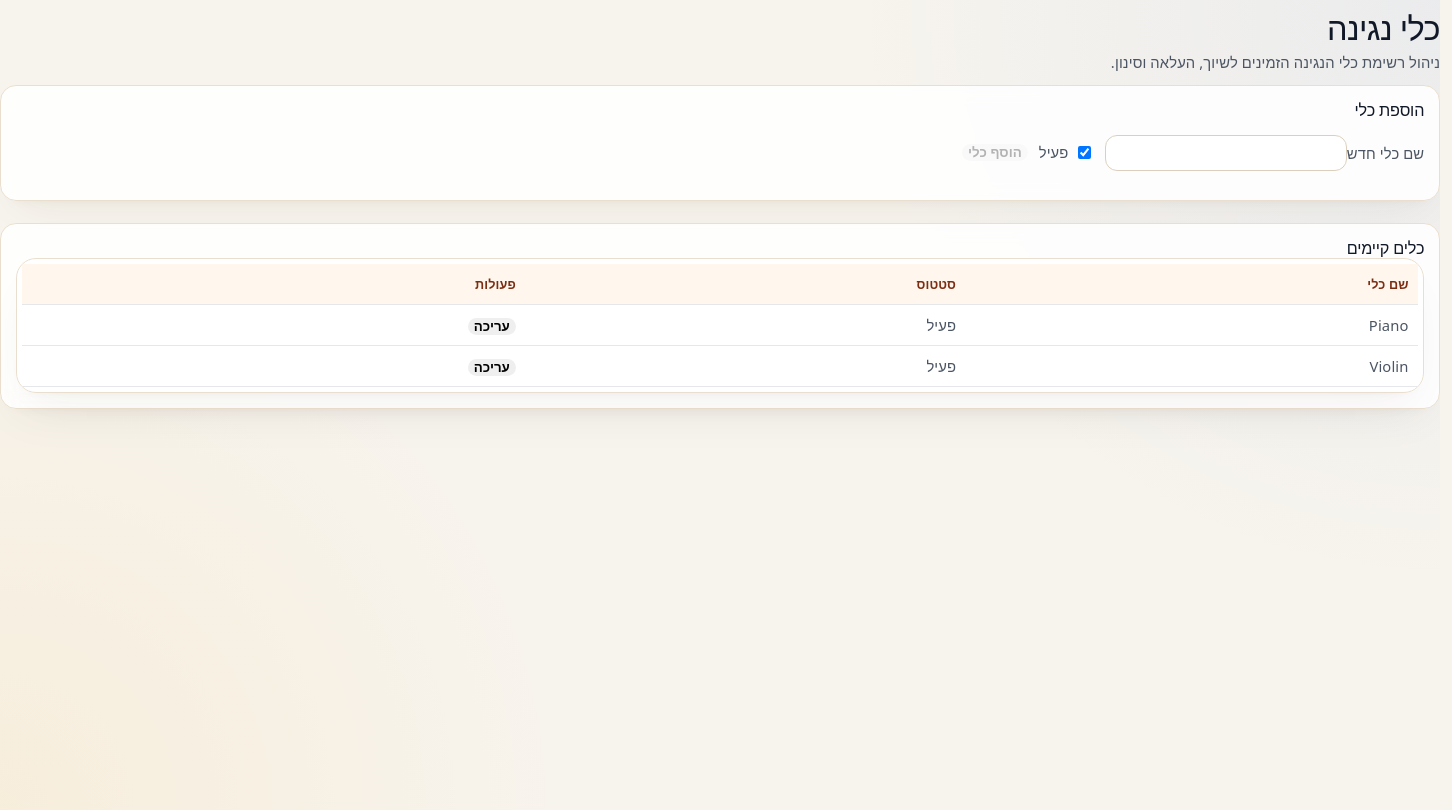
it: AdminInstrumentsPage › updates an instrument
This screenshot has width=1452, height=810.
Expected: the text "Piano" is shown, [966,305,1418,346]
Click the button "עריכה" in the row of "Piano" at (492, 326), box [468,318,516,335]
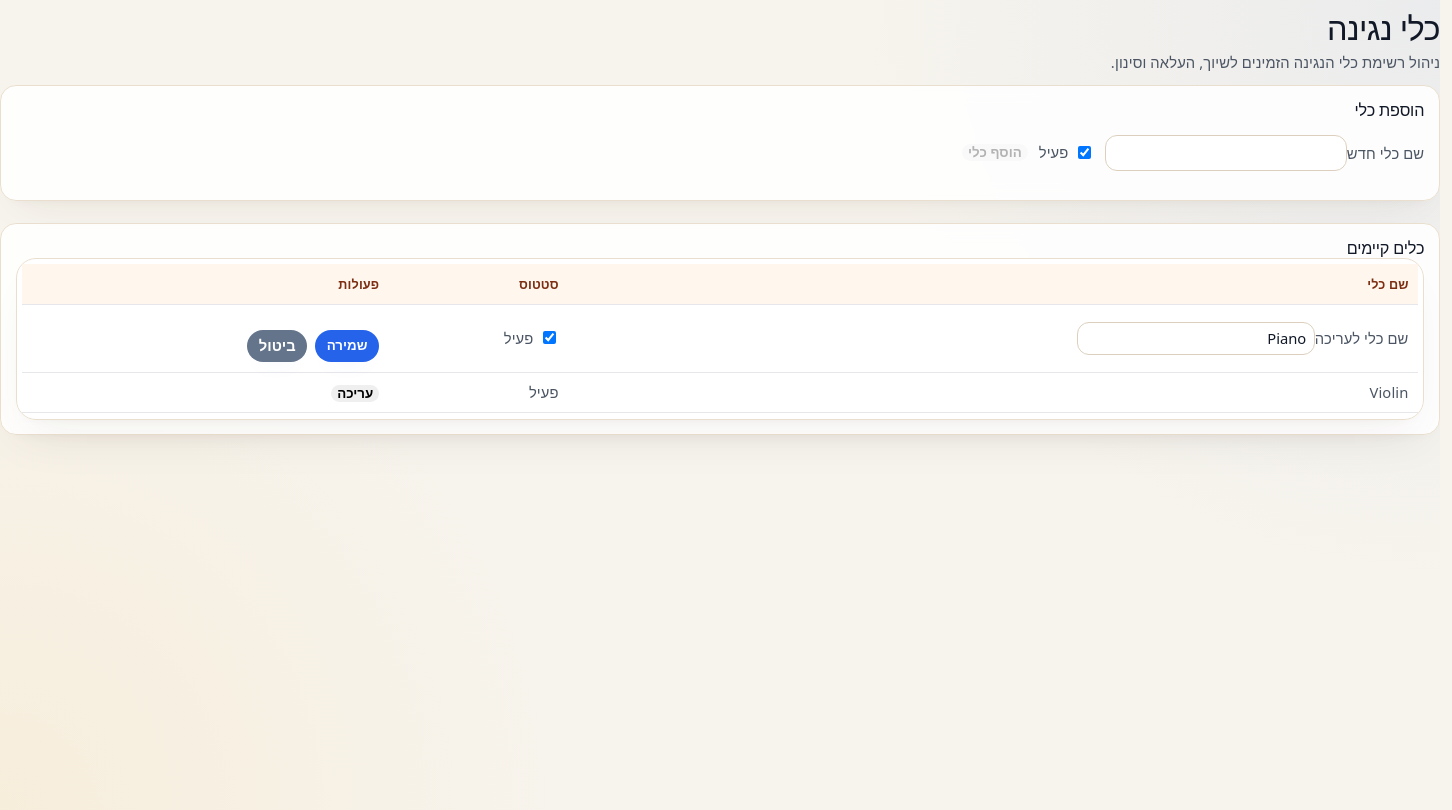
Replace the text in the field labelled "שם כלי לעריכה" with "Grand Piano" at (1196, 338), box [1077,322,1315,355]
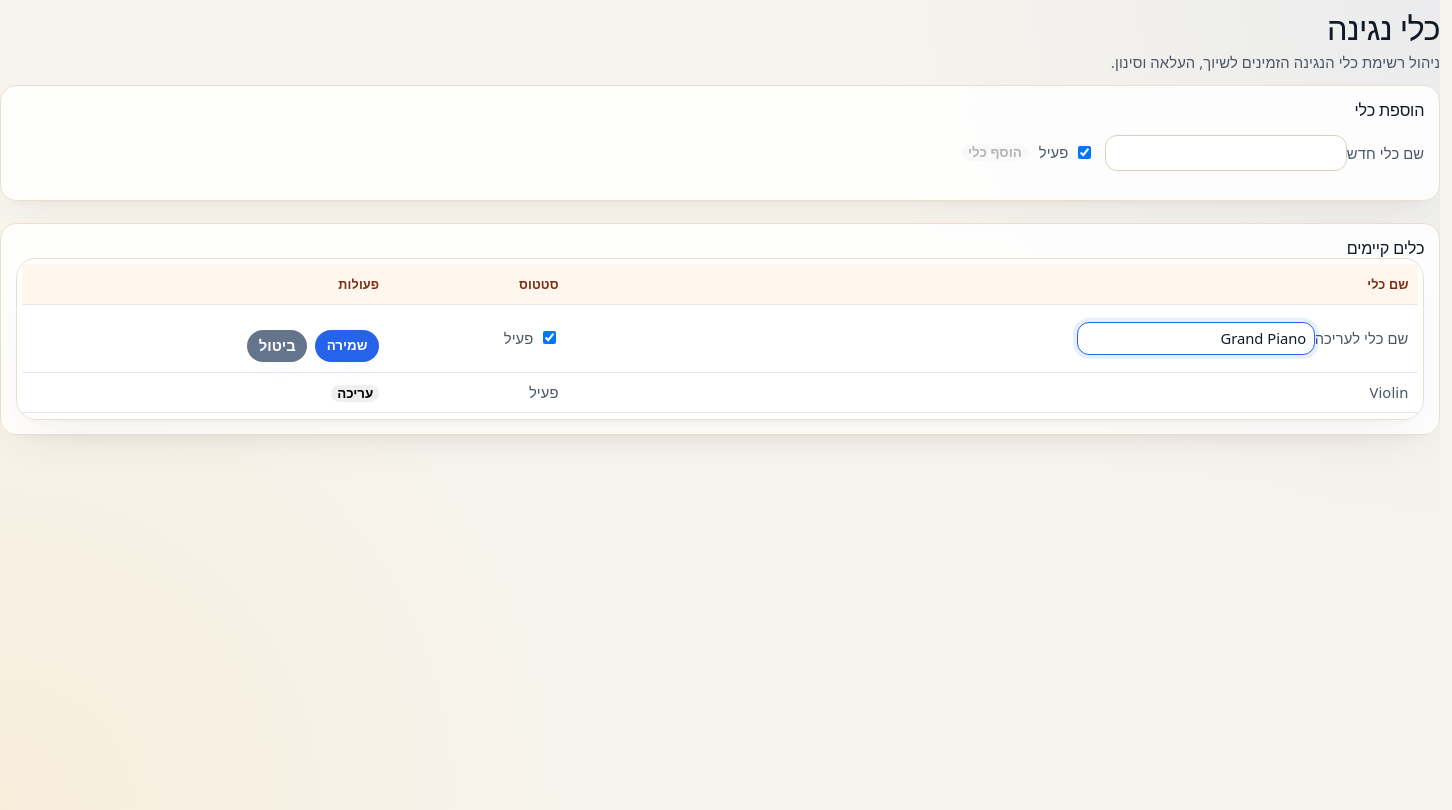
Click the checkbox labelled "פעיל" in the row of "שם כלי לעריכה" at (549, 338), box [543,332,556,344]
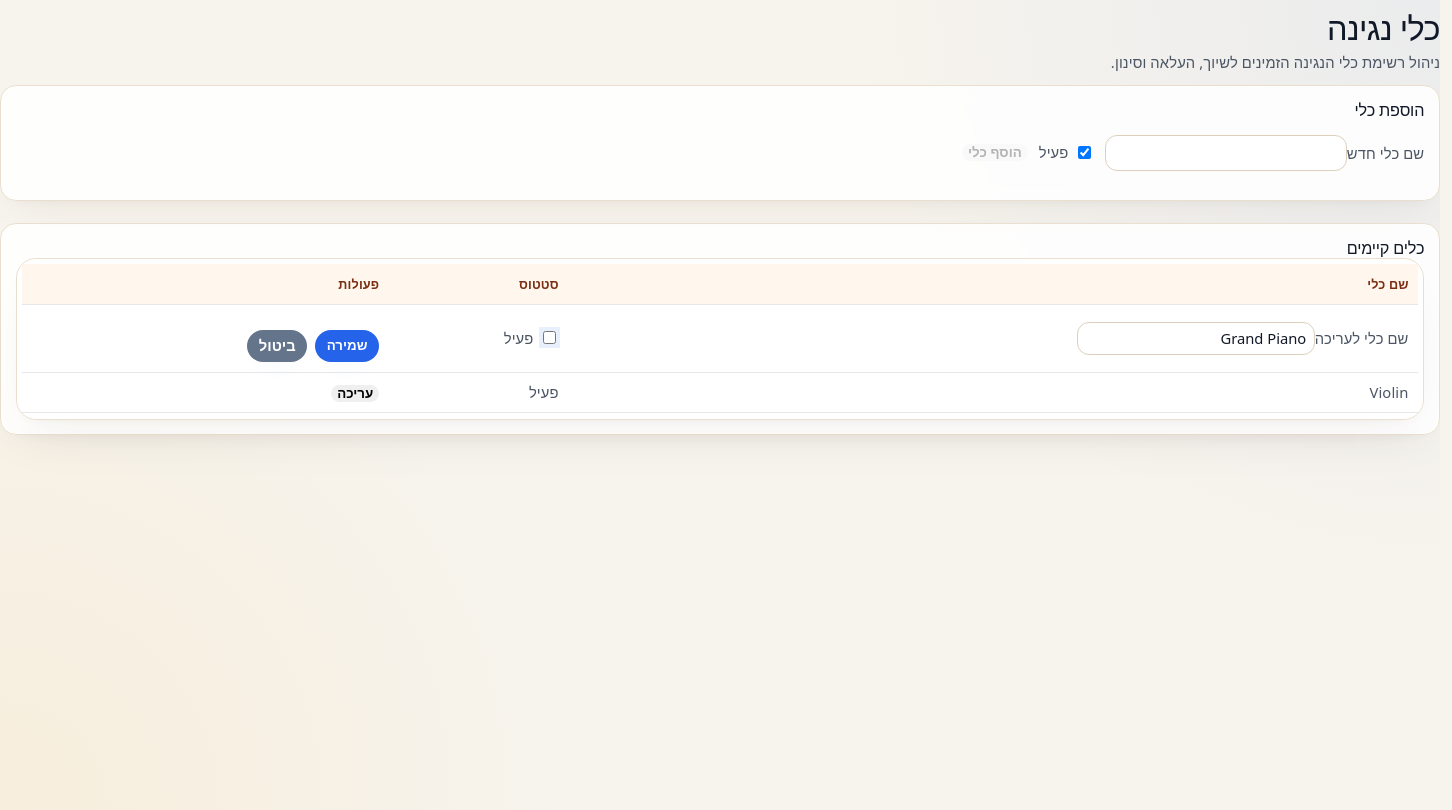
Click the button "שמירה" at (347, 346), box [315,330,379,362]
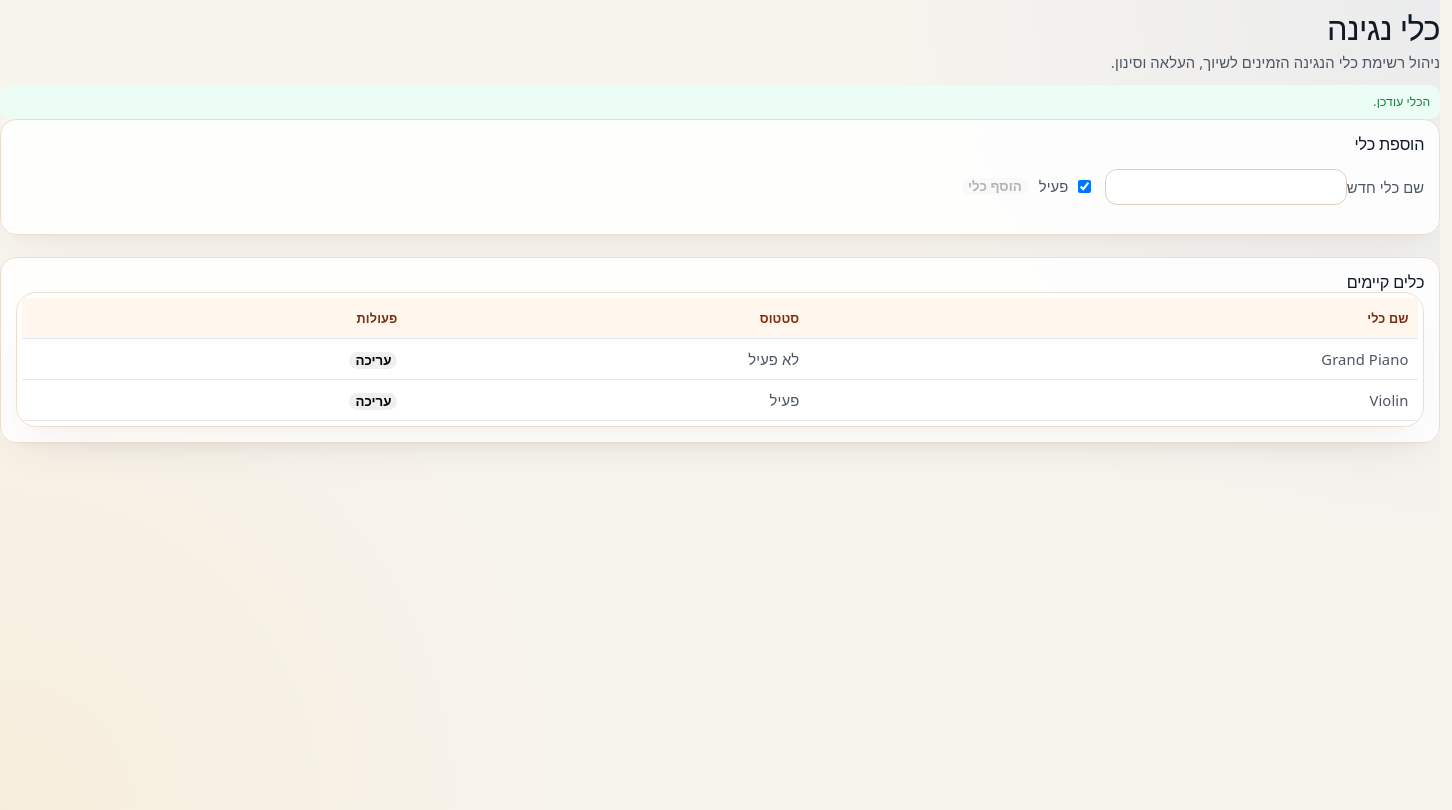
Expected: the text "הכלי עודכן." is shown, [0,85,1440,119]
Expected: the text "Grand Piano" is shown, [809,339,1418,379]
